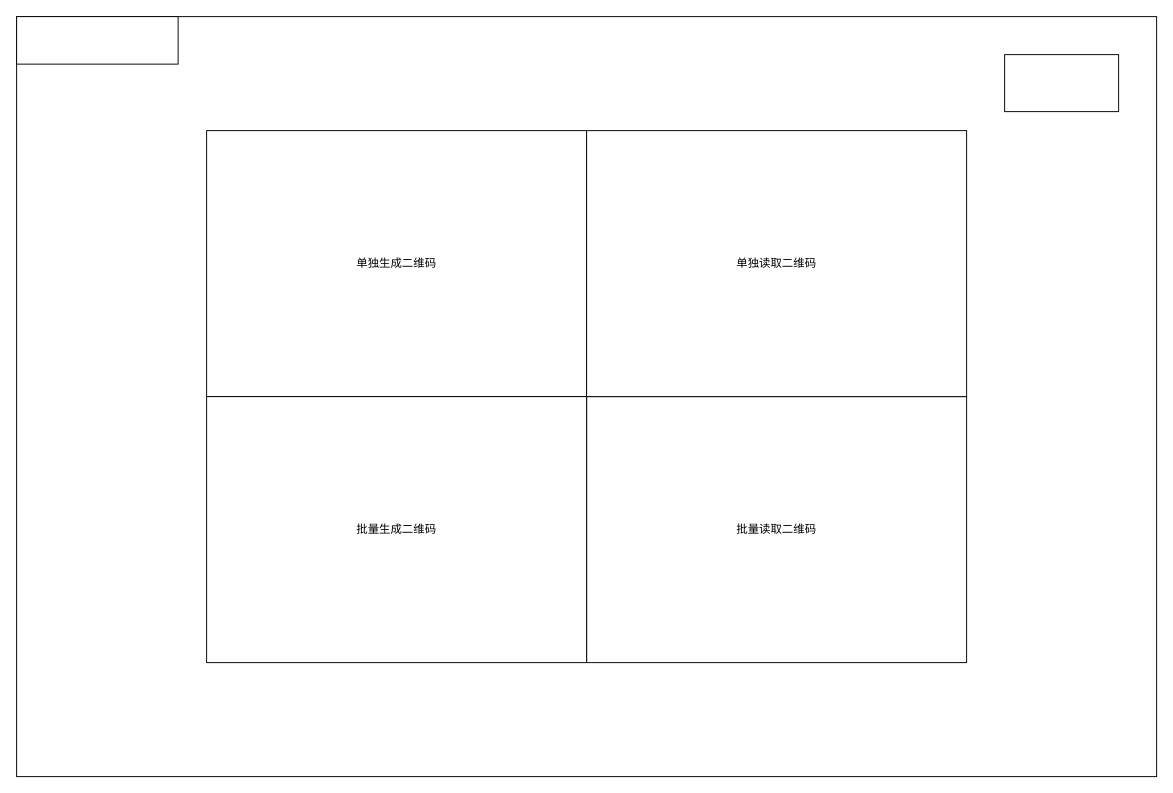
The diagram is 1173 pixels wide and 793 high, and some of its shapes have lost their labels. The shapes that lost their labels are listed below. From the top down, each one's centre as x and y in pixels, then its label:
At [97,40]: "QR master".
At [1061,83]: "分析模式".
